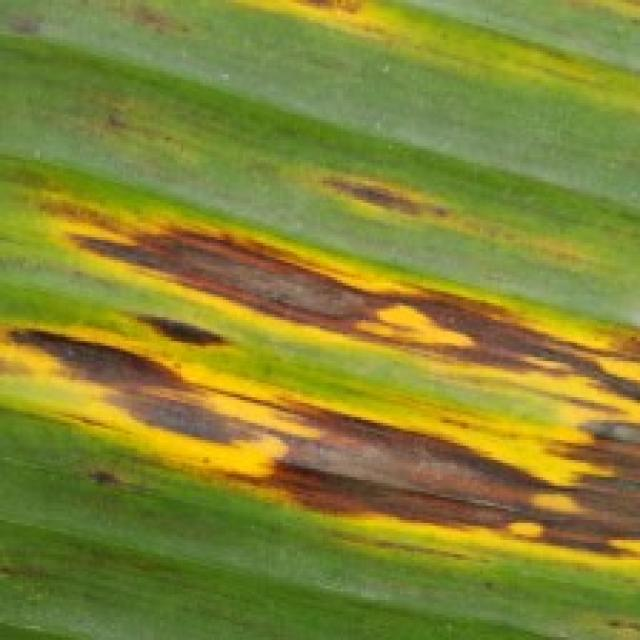Early_leaf_spot: (0, 142, 640, 568), (290, 140, 614, 268), (234, 0, 389, 49), (119, 0, 222, 60), (0, 0, 46, 49)
